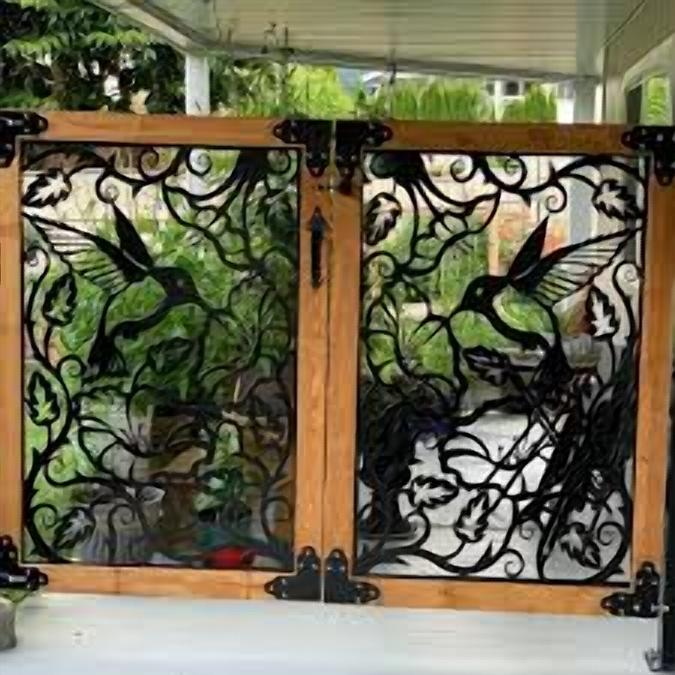Gate: (0, 112, 675, 621)
